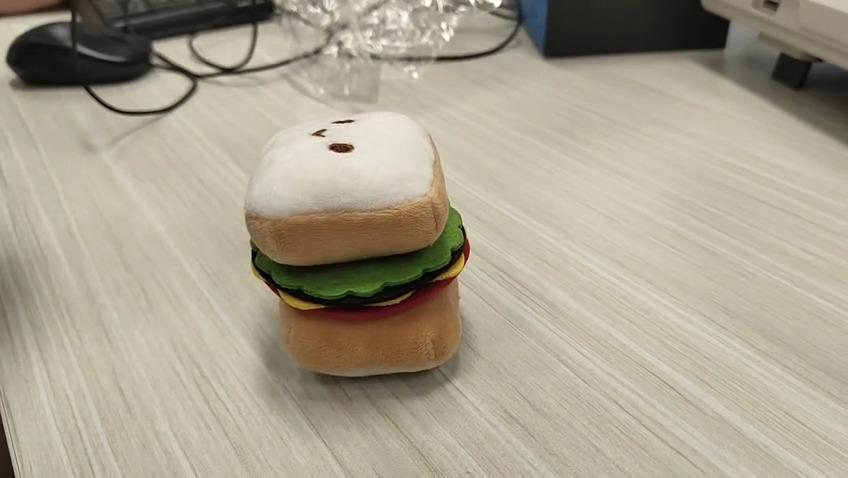objects: (244, 113, 472, 378)
